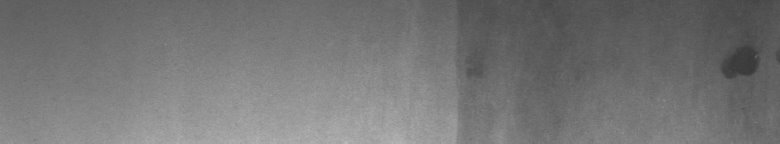fi: (719, 40, 765, 85)
